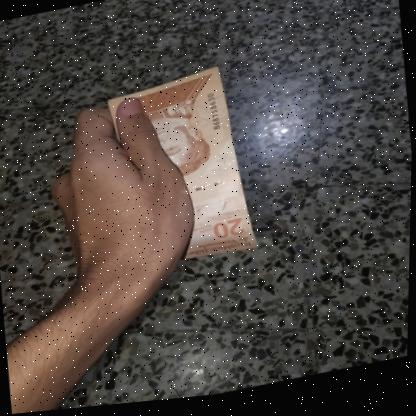twenty-front-vef: (104, 63, 263, 278)
